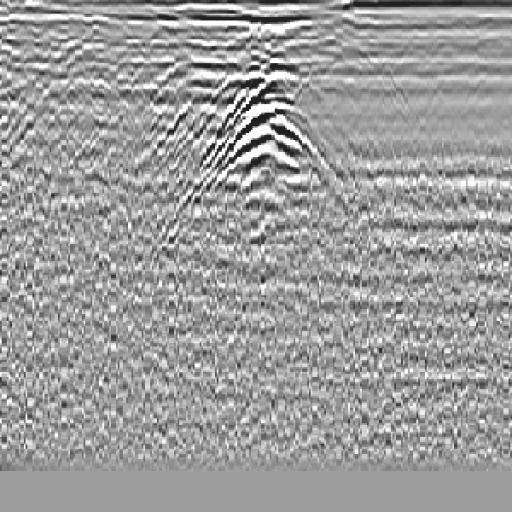metalic: (172, 47, 337, 198)
